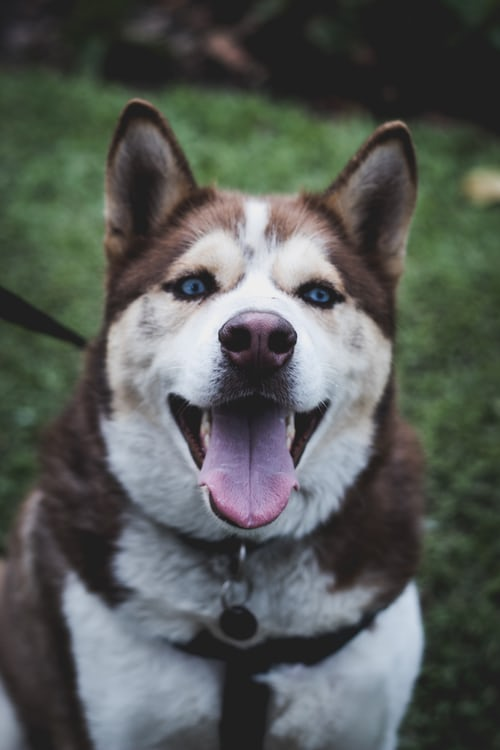husky: (63, 89, 451, 587)
